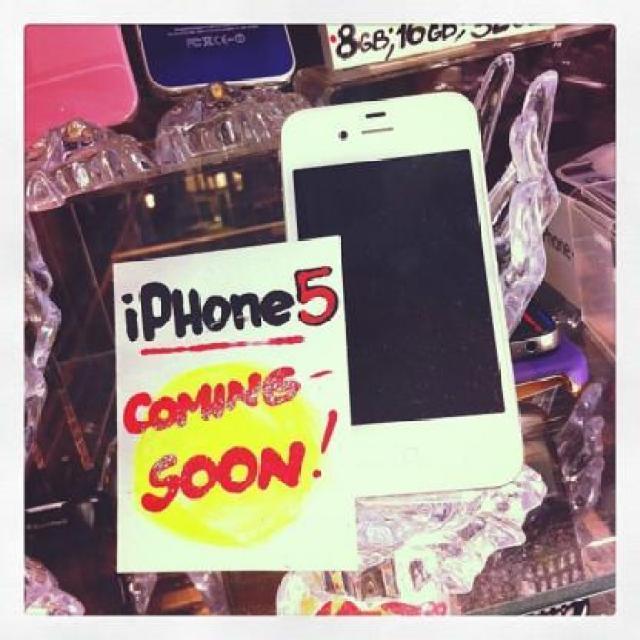phone: (275, 89, 526, 503)
